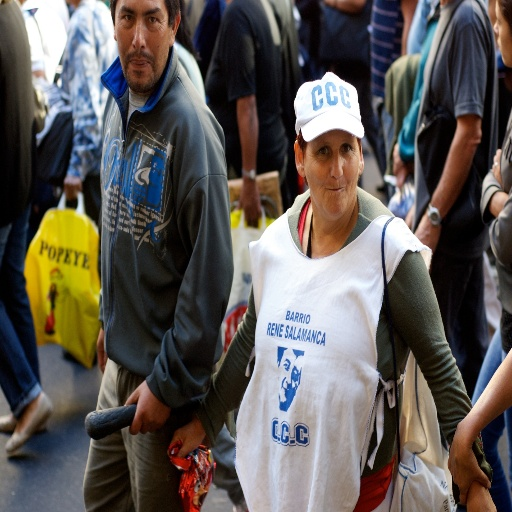hand: (444, 428, 491, 504), (122, 381, 171, 438), (165, 417, 208, 462), (236, 184, 263, 225), (411, 213, 440, 250), (467, 484, 495, 511), (94, 329, 108, 374), (63, 175, 81, 203), (491, 146, 502, 185), (392, 142, 404, 176), (404, 205, 414, 228)
